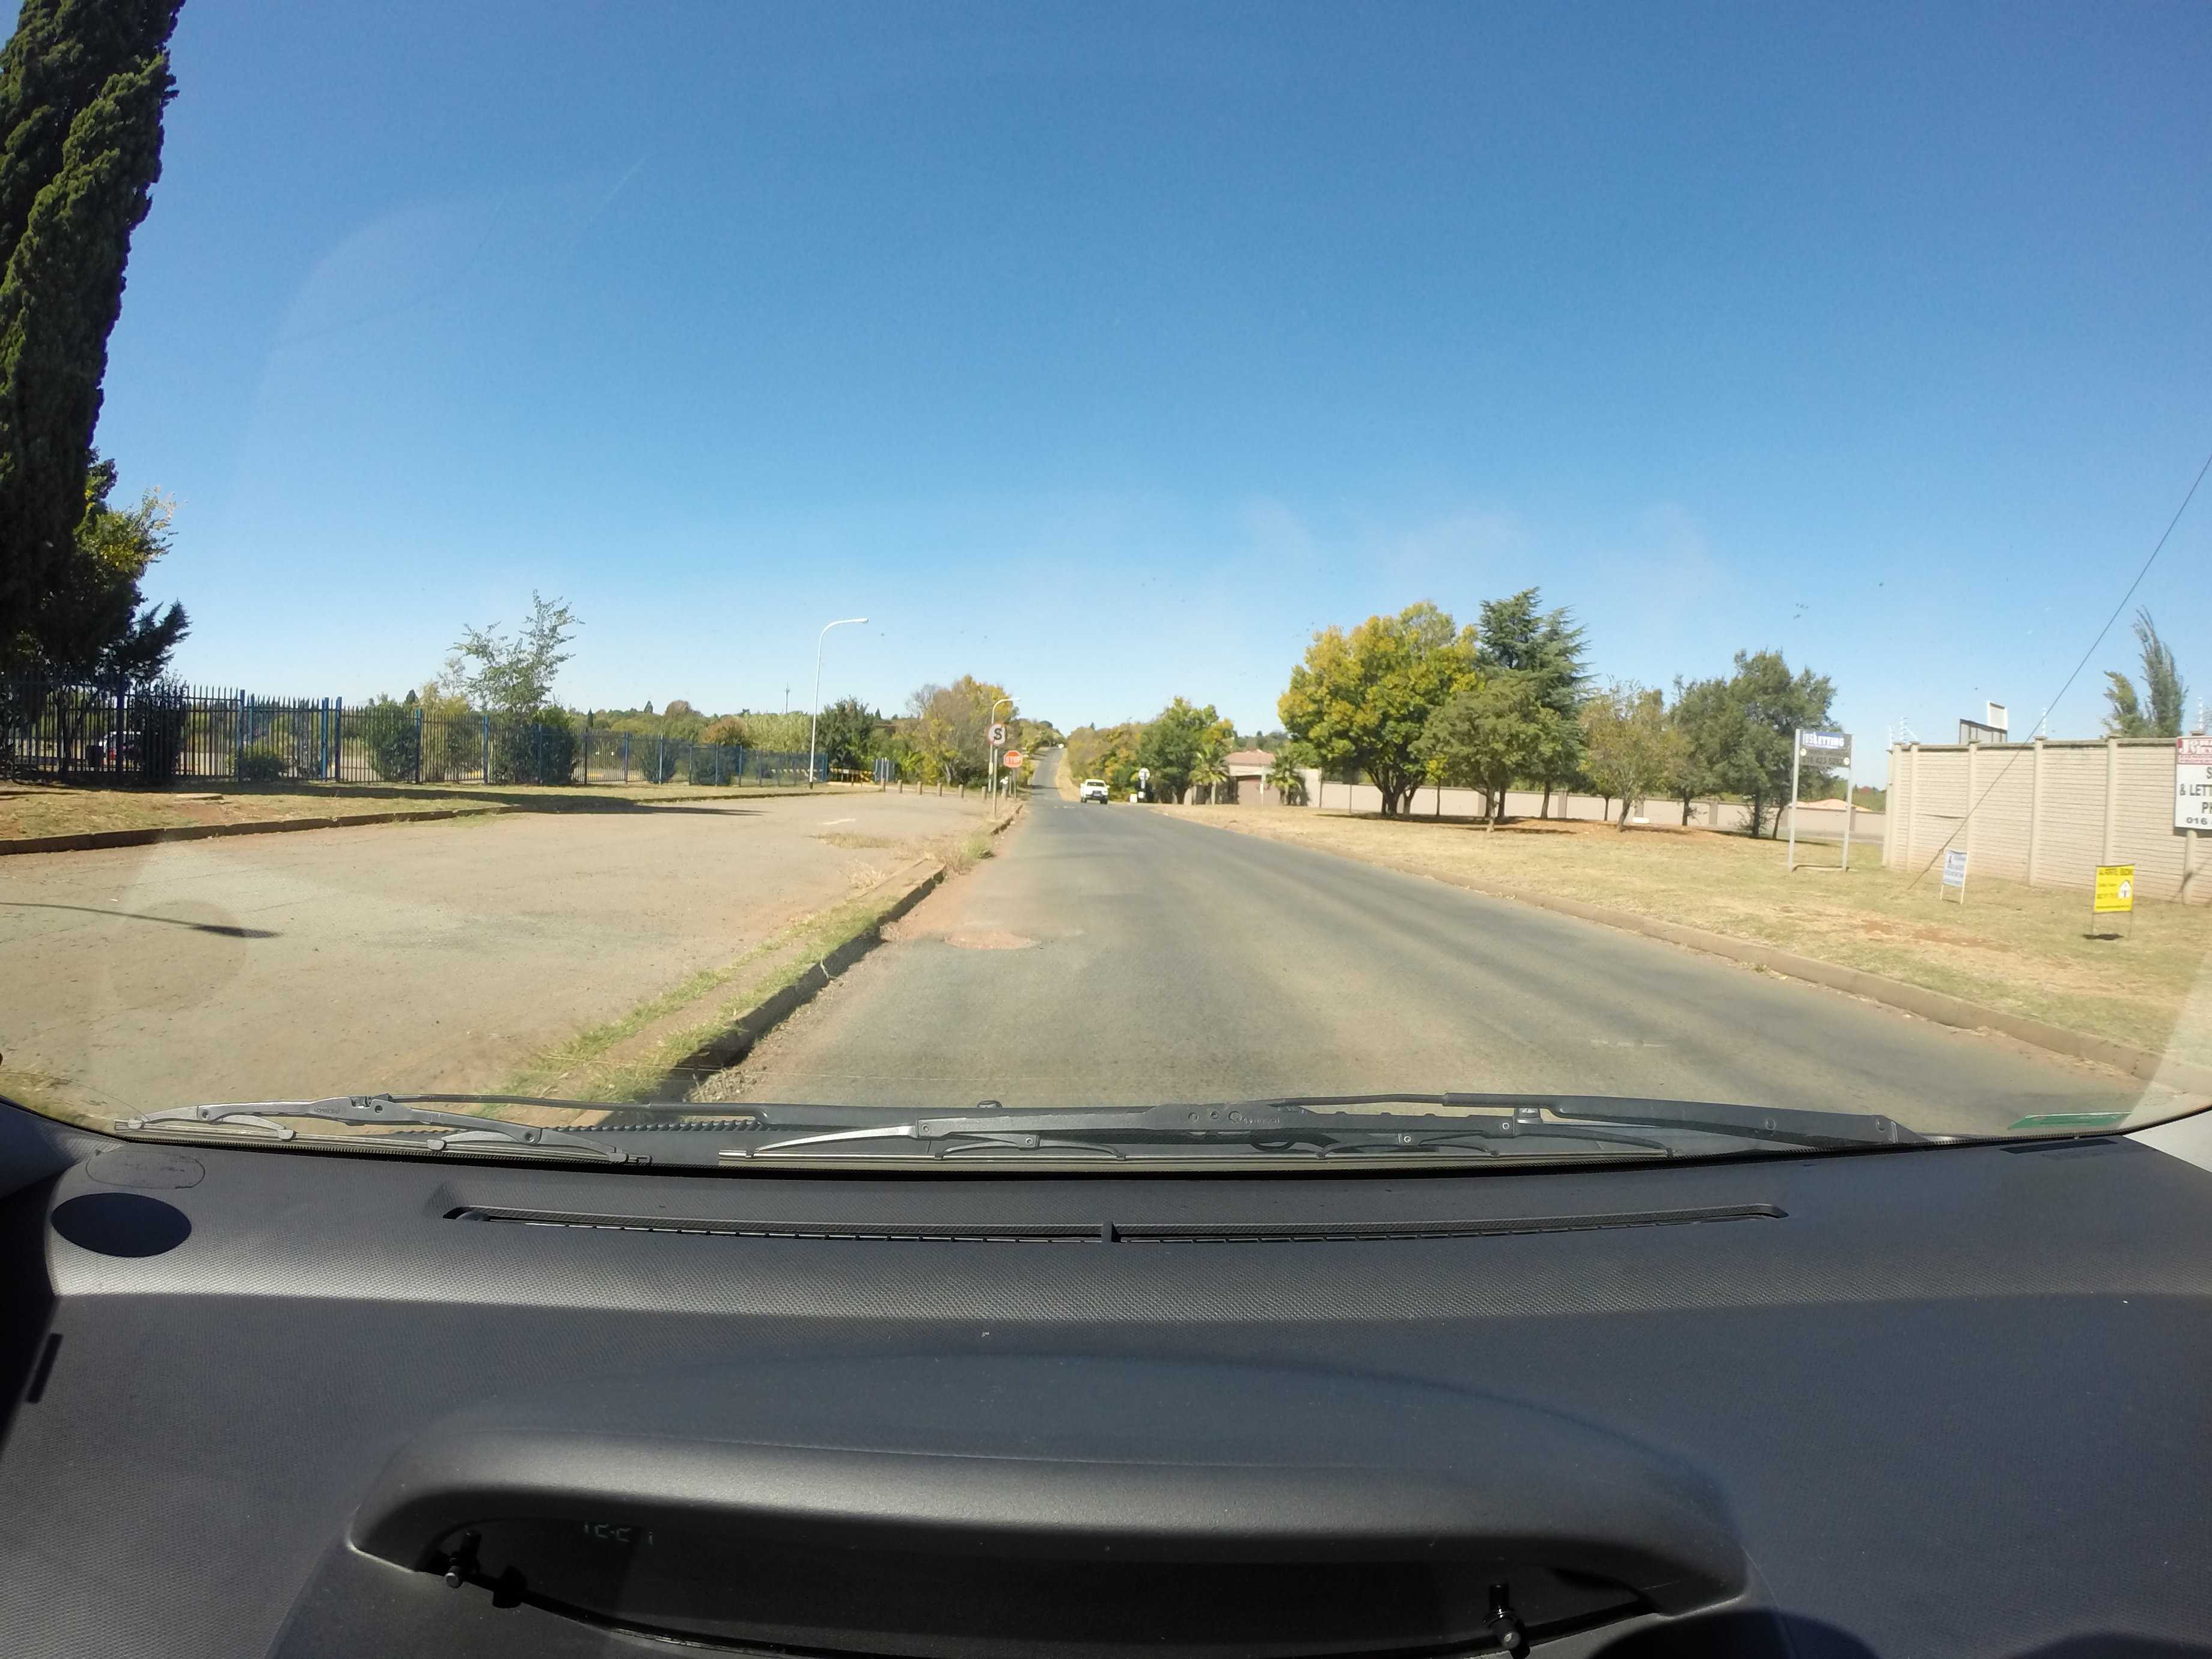pothole: (939, 918, 1049, 957)
